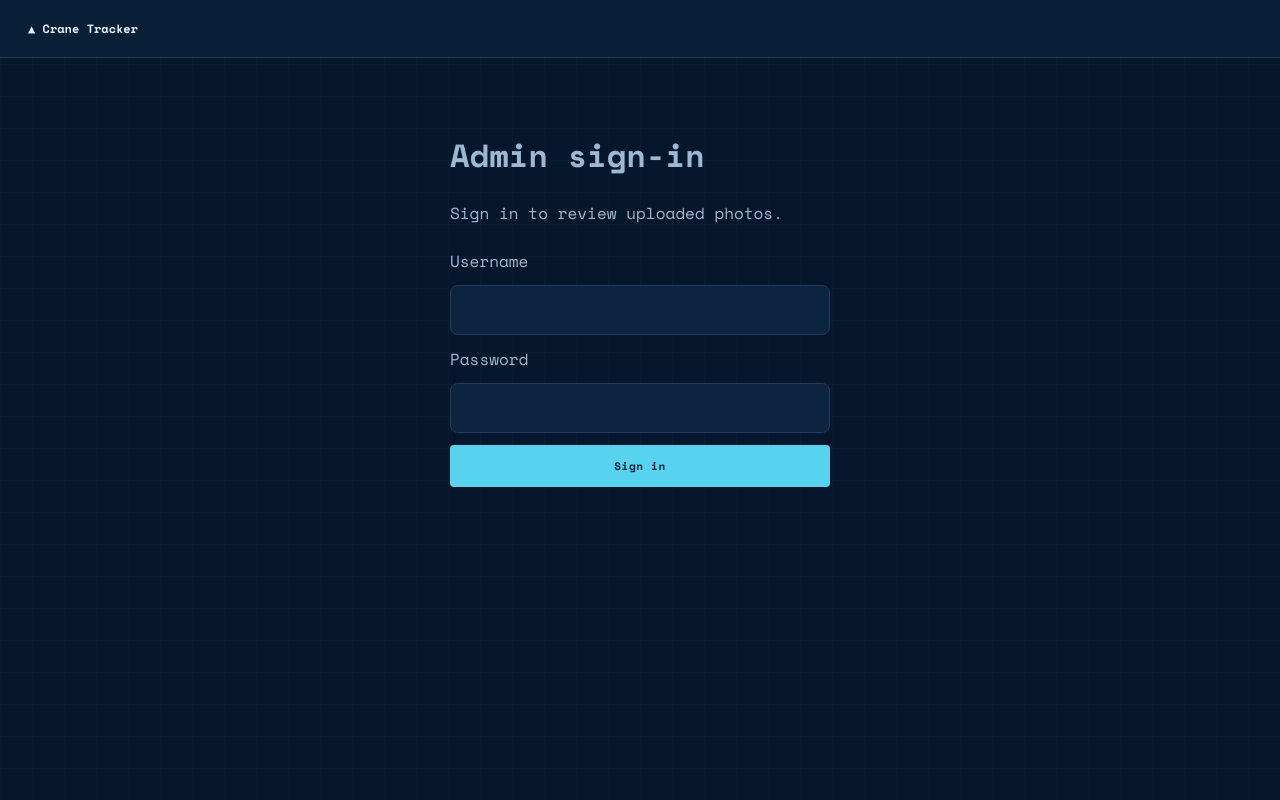
admin authentication › gates the feed and handles invalid credentials and rate limiting
The width and height of the screenshot is (1280, 800).
Type "admin" into the field labelled "Username" at [640, 310], box [450,285,830,335]
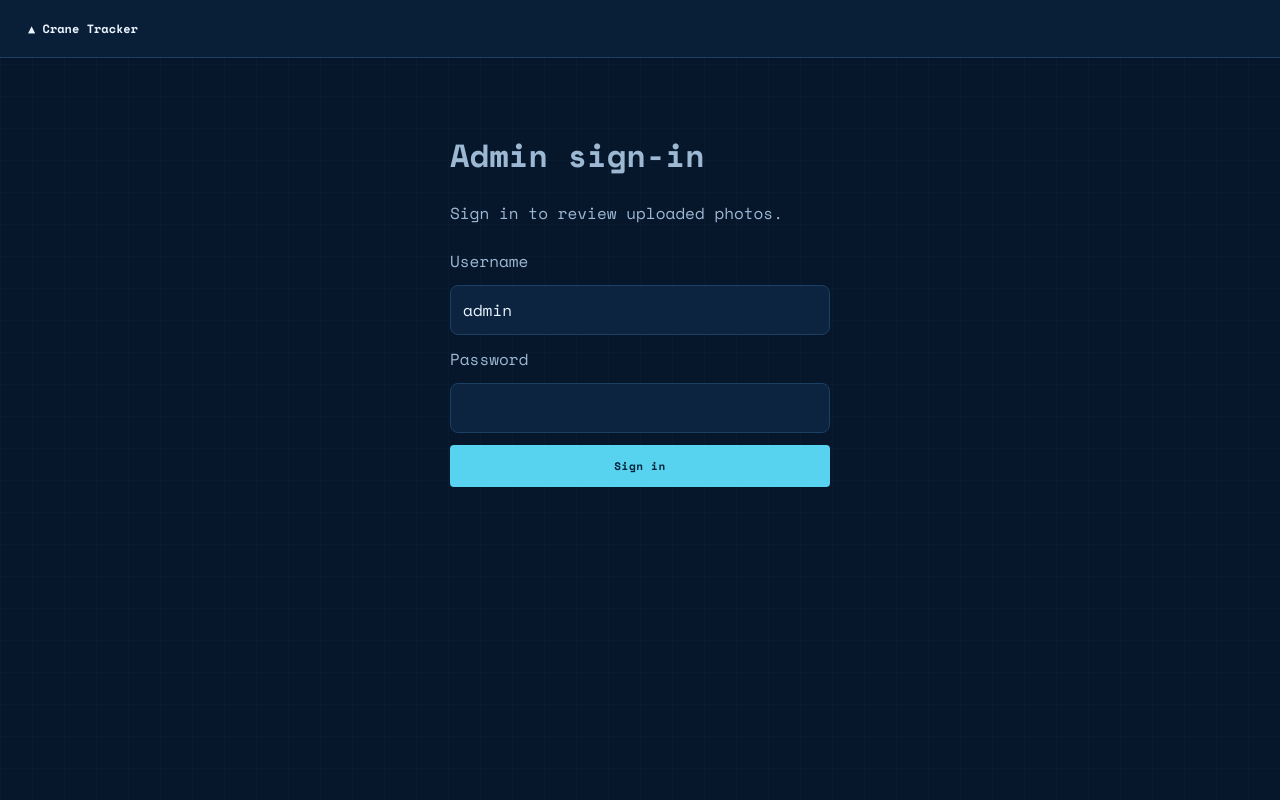
Type "secret" into the password field labelled "Password" at [640, 408], box [450,383,830,433]
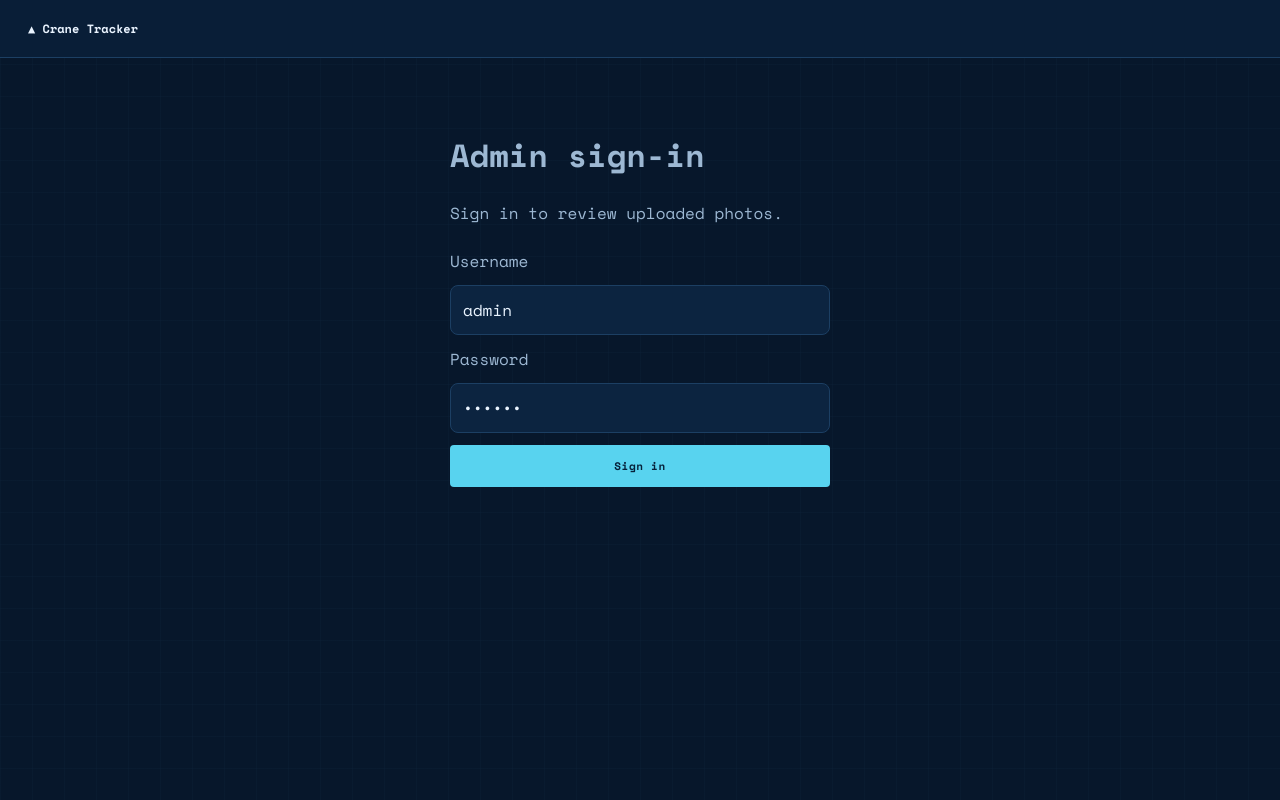
Click the button "Sign in" at [640, 466], box [450,445,830,487]
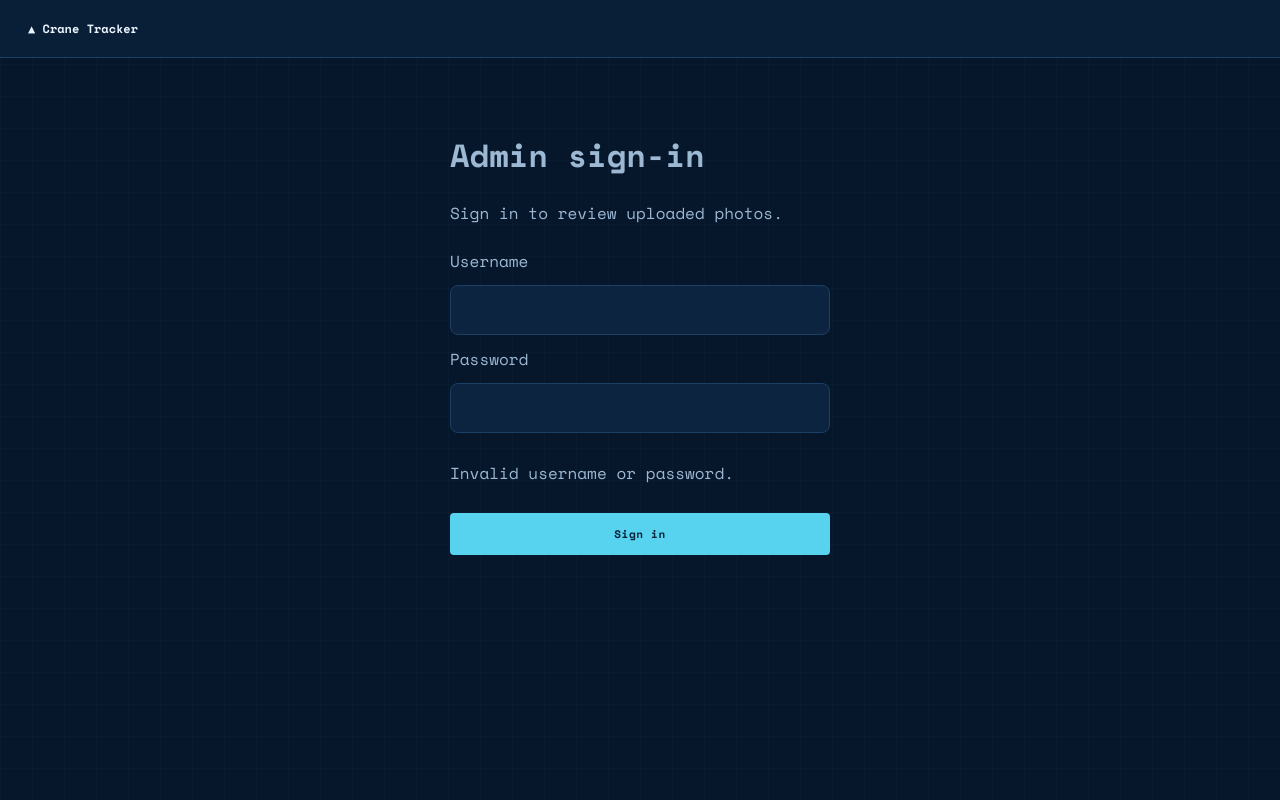
Expected: the text "Invalid username or password." is shown, [450,461,734,485]
Type "admin" into the field labelled "Username" at [640, 310], box [450,285,830,335]
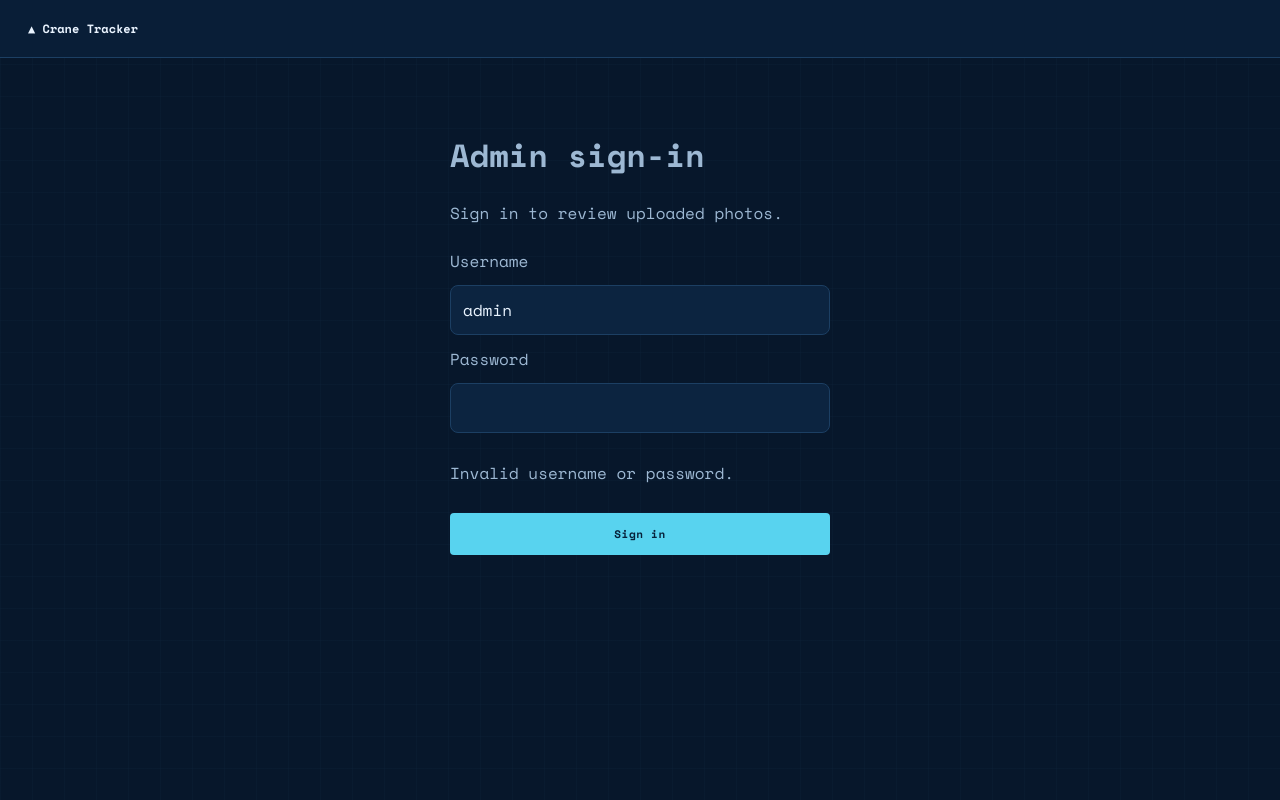
Type "secret" into the password field labelled "Password" at [640, 408], box [450,383,830,433]
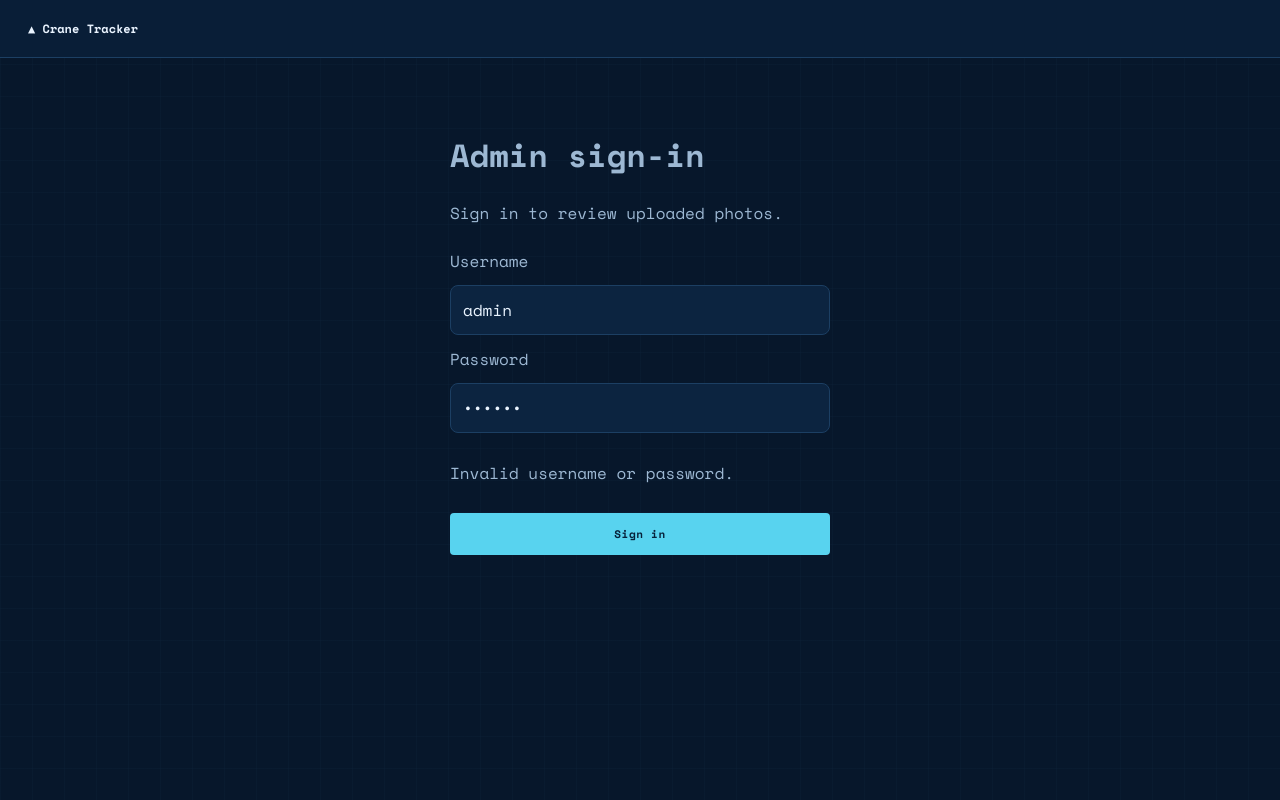
Click the button "Sign in" at [640, 534], box [450,513,830,555]
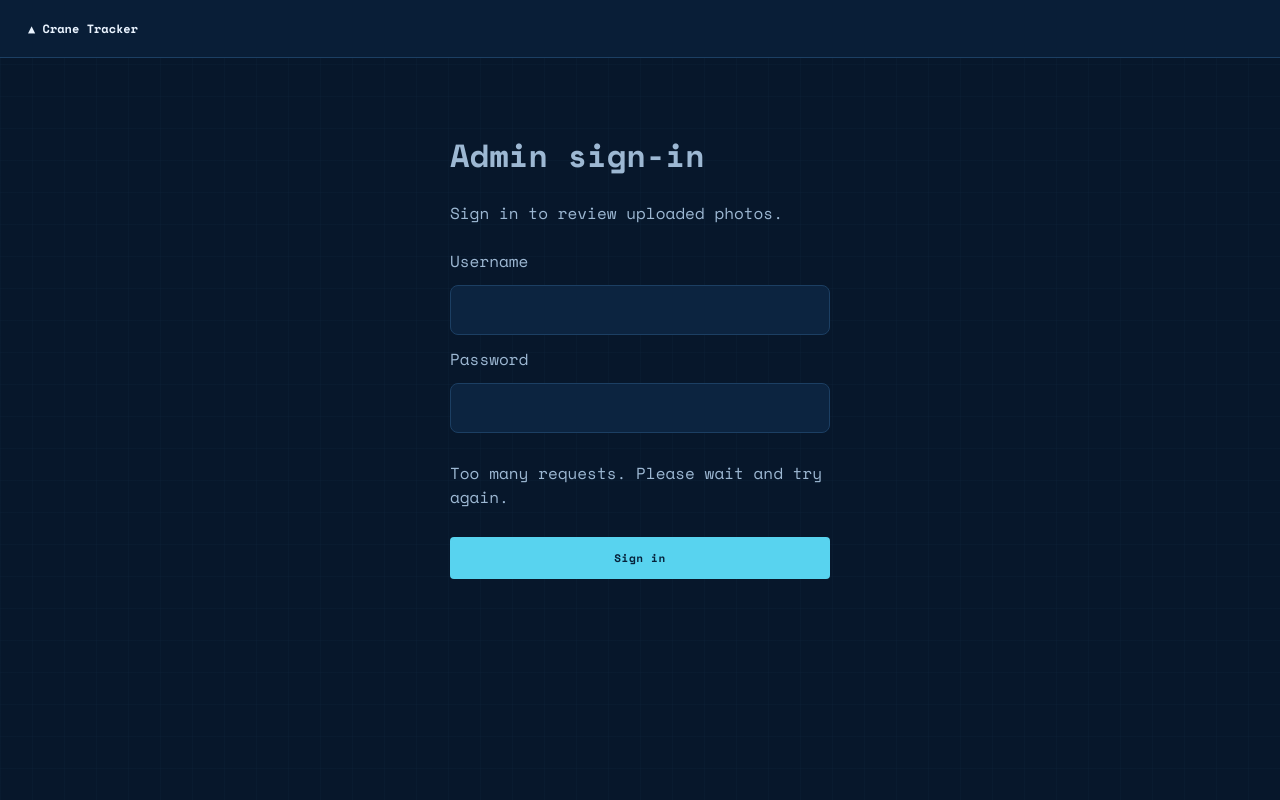
Expected: the text "Too many requests. Please wait and try again." is shown, [450,461,830,509]
